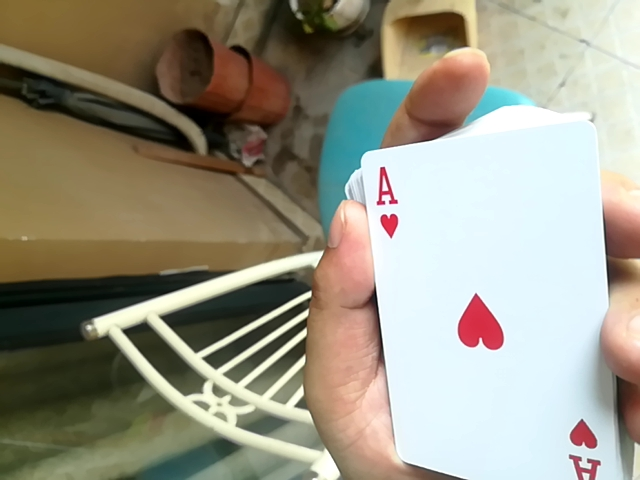hx a: (355, 118, 632, 478)
